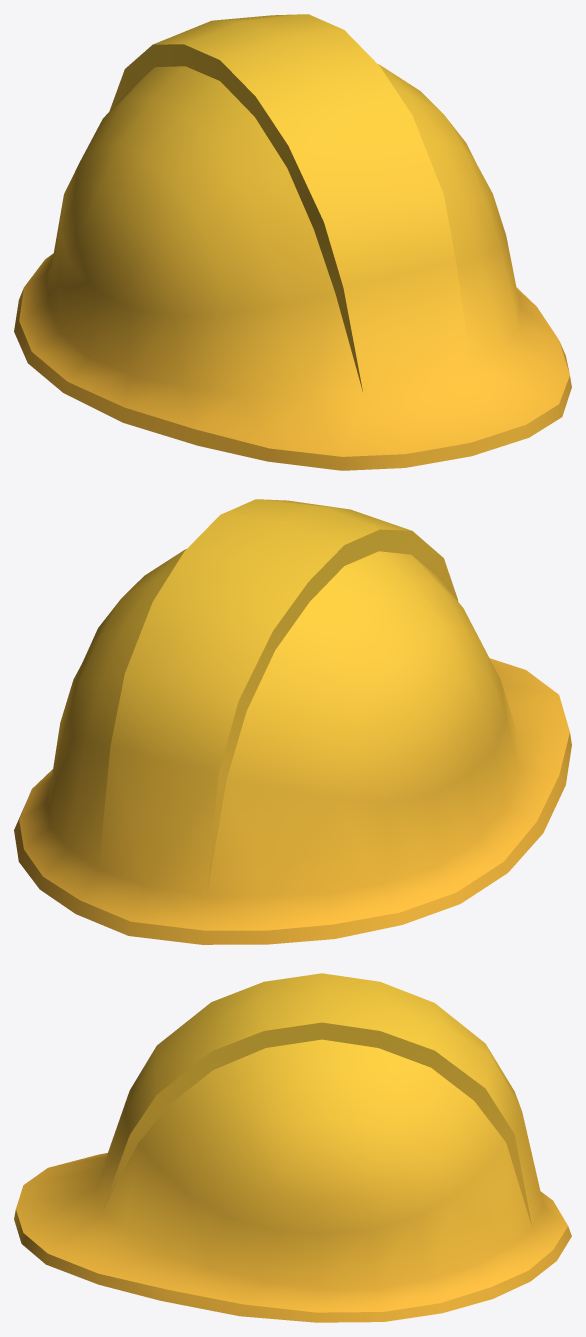
The model's file is worker_hat.fbx.
3 renders of one model, top to bottom at view 1: azimuth 30°, elevation 25°; view 2: azimuth 150°, elevation 25°; view 3: azimuth 270°, elevation 25°, orthographic. The views are drawn at different scales.
Parts seen in each view (by area): view 1: worker_hat; view 2: worker_hat; view 3: worker_hat.
Boxes of the visible parts, x1=… form: worker_hat: x1=14, y1=14, x2=571, y2=470; worker_hat: x1=14, y1=499, x2=571, y2=944; worker_hat: x1=14, y1=973, x2=571, y2=1322.
Size of the model in its own units: 1.76 by 1.14 by 2.36.
